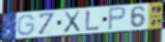6: (129, 6, 147, 29)
7: (38, 12, 57, 36)
G: (16, 14, 36, 37)
L: (84, 10, 101, 32)
P: (107, 6, 128, 32)
X: (62, 9, 82, 34)
